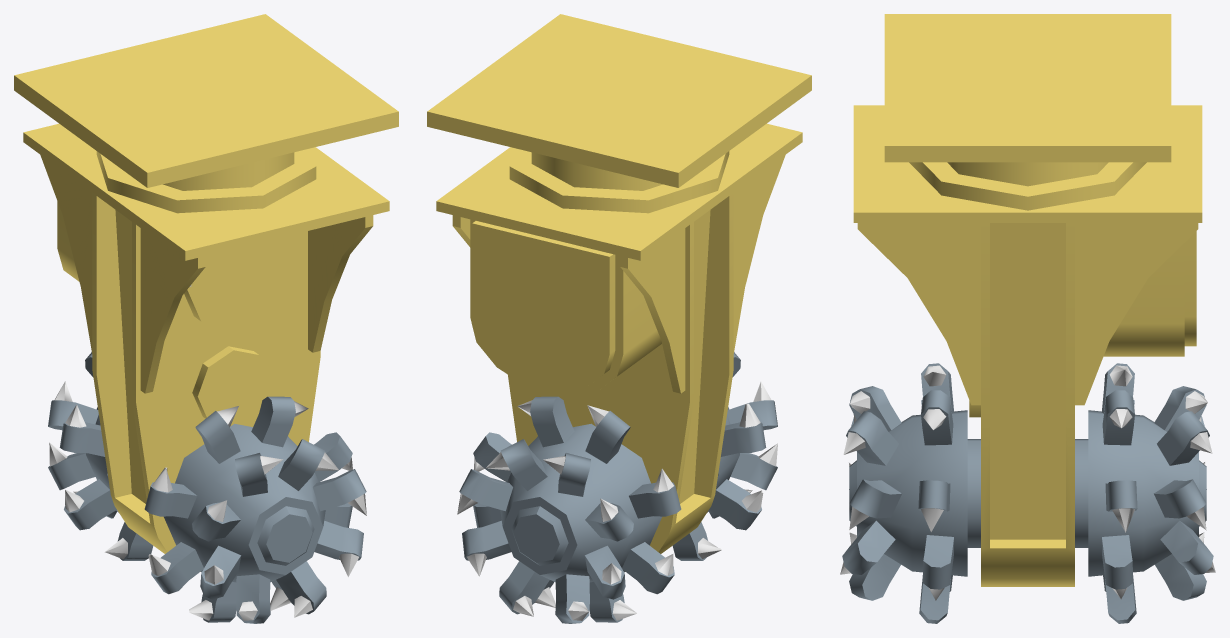
File: ER_drum_cutter_600_1k_v.fbx
3 renders of one model, left to right at view 1: azimuth 30°, elevation 25°; view 2: azimuth 150°, elevation 25°; view 3: azimuth 270°, elevation 25°, orthographic. The views are drawn at different scales.
Parts seen in each view (by area): view 1: ER_drum_cutter_600; view 2: ER_drum_cutter_600; view 3: ER_drum_cutter_600.
Boxes of the visible parts, x1=… form: ER_drum_cutter_600: x1=14, y1=14, x2=398, y2=623; ER_drum_cutter_600: x1=427, y1=14, x2=811, y2=623; ER_drum_cutter_600: x1=840, y1=14, x2=1215, y2=623.
Bounding box in the file's own units: 59.72 × 112 × 71.88.
